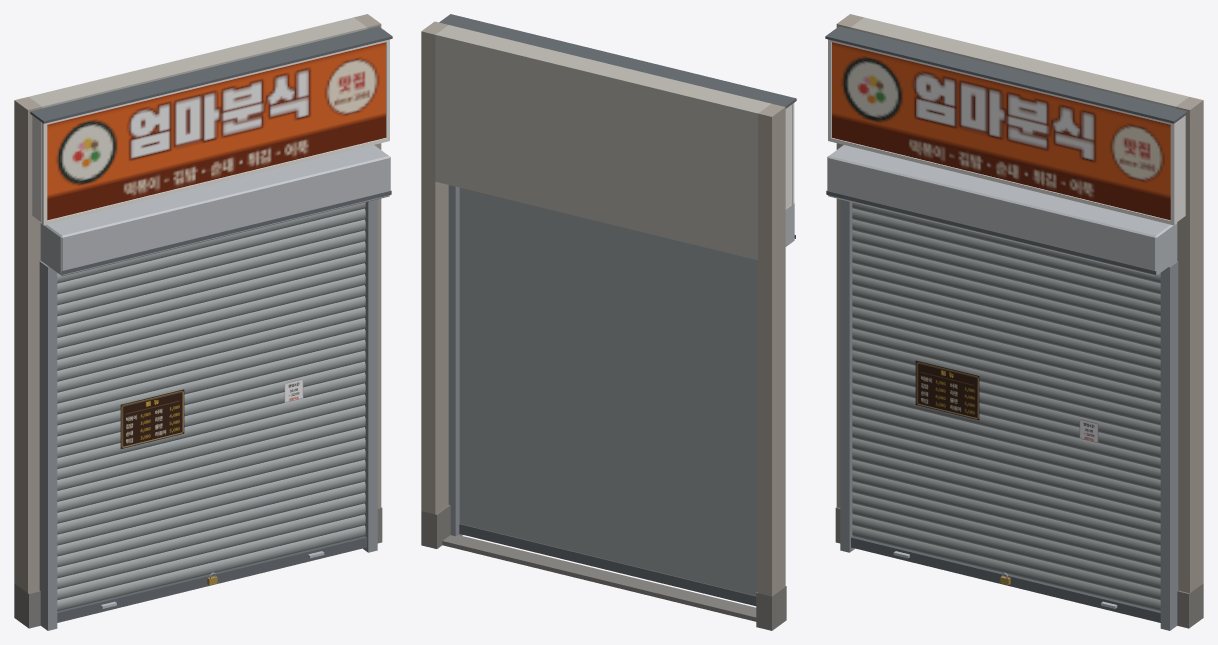
File: SC_Shop_Bunsik_Closed.gltf
3 views of the same model, side by side, from view 1: azimuth 30°, elevation 25°; view 2: azimuth 150°, elevation 25°; view 3: azimuth 330°, elevation 25° (orthographic).
Parts seen in each view (by area): view 1: SC_Shop_Bunsik_Closed; view 2: SC_Shop_Bunsik_Closed; view 3: SC_Shop_Bunsik_Closed.
Part boxes in pixels (x1,y1,x2,y2): SC_Shop_Bunsik_Closed: [14, 14, 392, 630]; SC_Shop_Bunsik_Closed: [421, 14, 796, 630]; SC_Shop_Bunsik_Closed: [825, 14, 1203, 630].
Size of the model in its own units: 3 by 4.2 by 0.525.
Materials: 2 (2 with a texture image).
